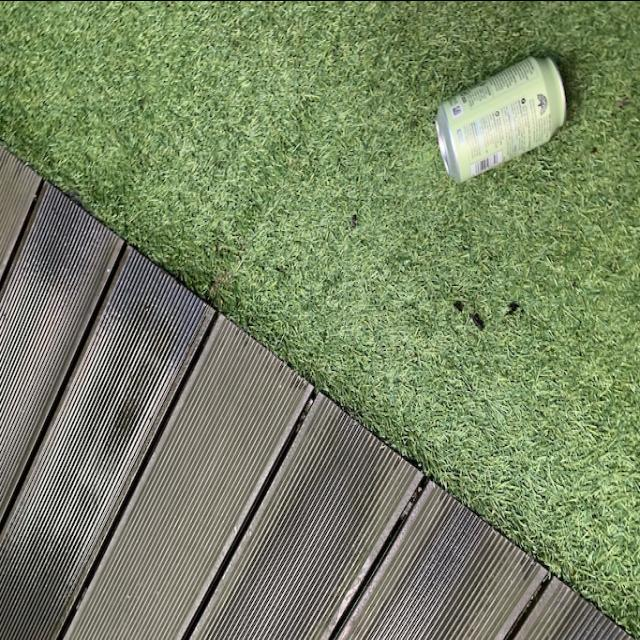litter: (439, 55, 577, 180)
